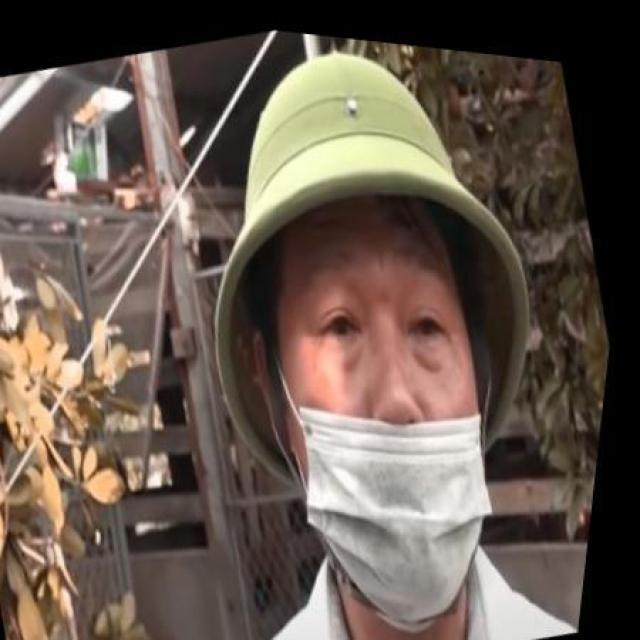hairnet: (242, 211, 559, 638)
